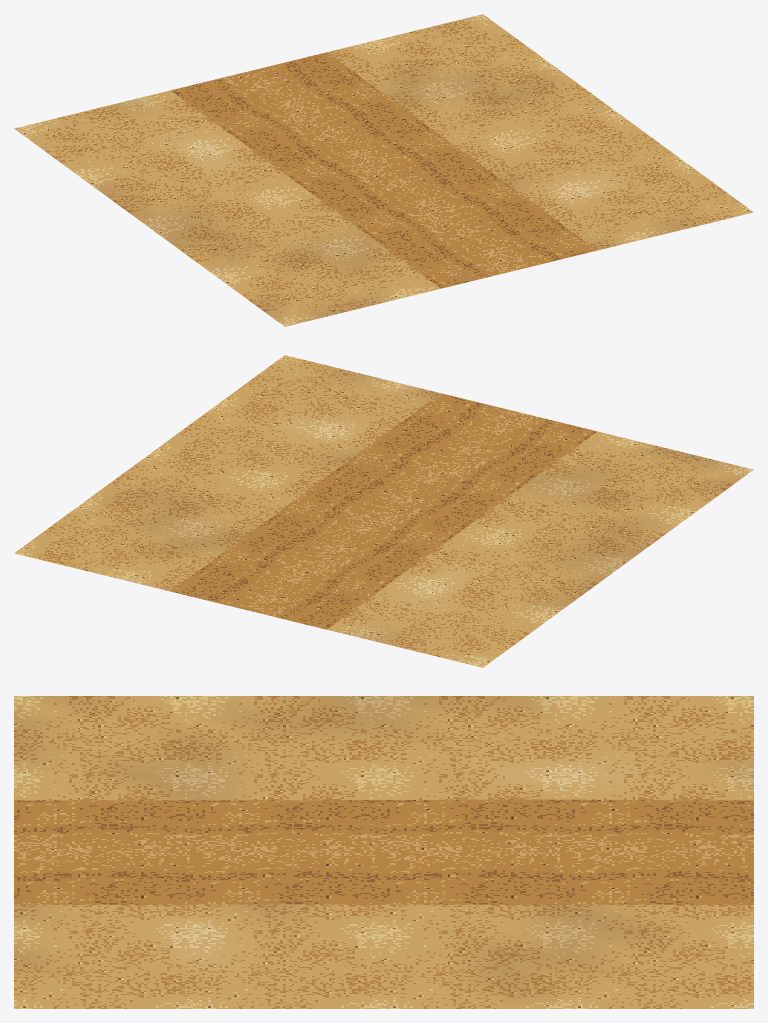
Rendered from wland.ground__plaza.glb.
3 renders of one model, top to bottom at view 1: azimuth 30°, elevation 25°; view 2: azimuth 150°, elevation 25°; view 3: azimuth 270°, elevation 25°, orthographic. The views are drawn at different scales.
Parts seen in each view (by area): view 1: kit_shell_ground; view 2: kit_shell_ground; view 3: kit_shell_ground.
Part boxes in pixels (<box>): kit_shell_ground: <box>14,14,753,326</box>; kit_shell_ground: <box>14,355,753,667</box>; kit_shell_ground: <box>14,696,753,1008</box>.
Size of the model in its own units: 24 by 0.0324 by 24.
Materials: 2 (2 with a texture image).
